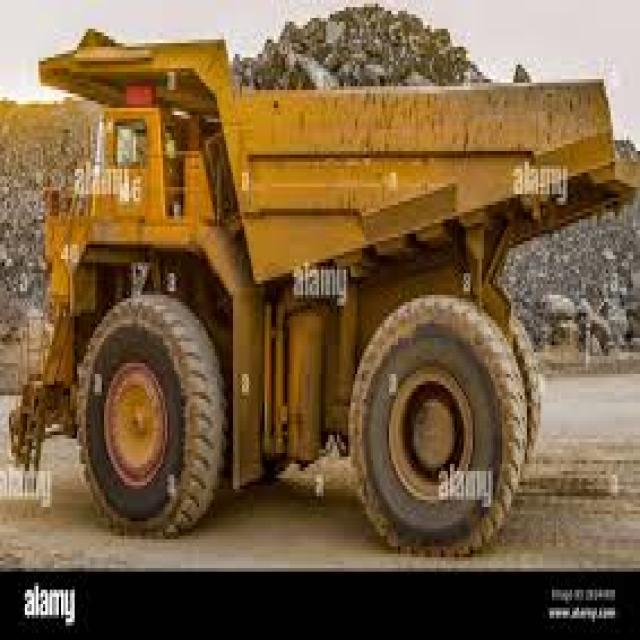dump_truck: (22, 11, 636, 557)
